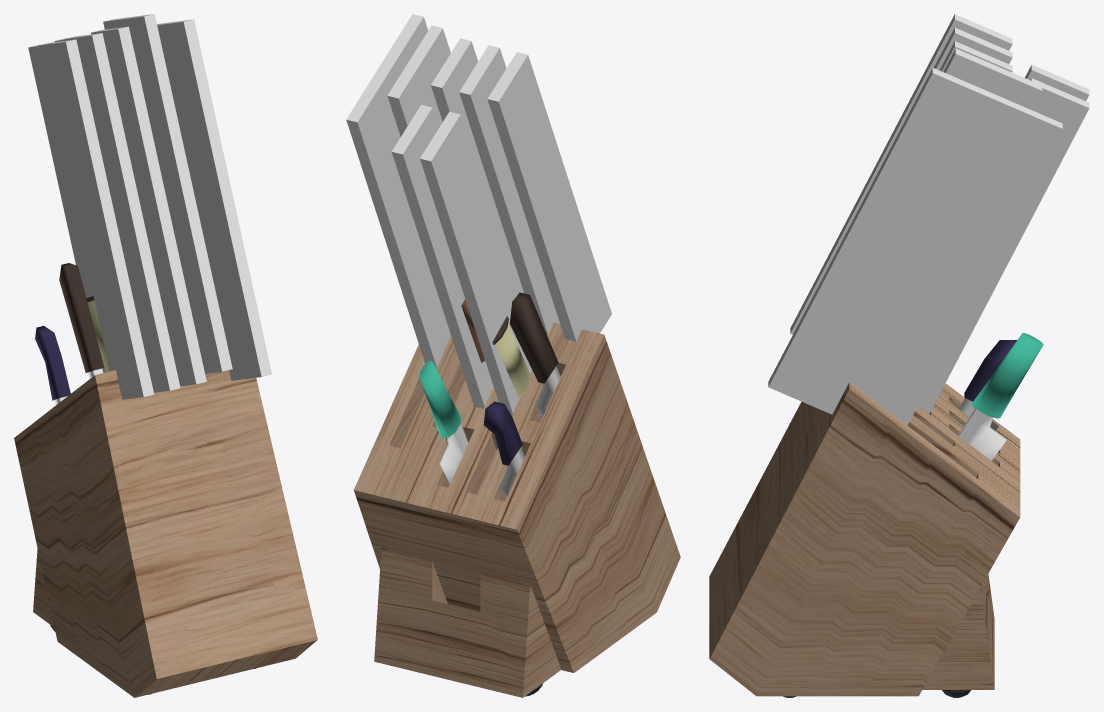
Rendered from knives.fbx.
3 renders of one model, left to right at view 1: azimuth 30°, elevation 25°; view 2: azimuth 150°, elevation 25°; view 3: azimuth 270°, elevation 25°, orthographic. The views are drawn at different scales.
Parts seen in each view (by area): view 1: Cube.001, Cube.002, Cube.003, Cube.005, Cylinder; view 2: Cube.001, Cube.002, Cube.003, Cylinder.001, Cube.005, Cylinder; view 3: Cube.001, Cube.002, Cylinder.001, Cube.005.
Boxes of the visible parts, bbox=[...] form: Cube.001: bbox=[14, 370, 317, 697]; Cube.002: bbox=[28, 14, 271, 399]; Cube.003: bbox=[59, 263, 104, 378]; Cube.005: bbox=[35, 326, 70, 404]; Cylinder: bbox=[86, 296, 109, 372]; Cube.001: bbox=[354, 322, 680, 697]; Cube.002: bbox=[346, 14, 611, 415]; Cube.003: bbox=[510, 292, 560, 418]; Cylinder.001: bbox=[419, 360, 468, 484]; Cube.005: bbox=[483, 401, 524, 499]; Cylinder: bbox=[492, 316, 530, 396]; Cube.001: bbox=[709, 382, 1020, 697]; Cube.002: bbox=[768, 14, 1089, 425]; Cylinder.001: bbox=[958, 333, 1043, 460]; Cube.005: bbox=[958, 340, 1016, 430].
Bounding box in the file's own units: 61.38 × 218 × 119.
